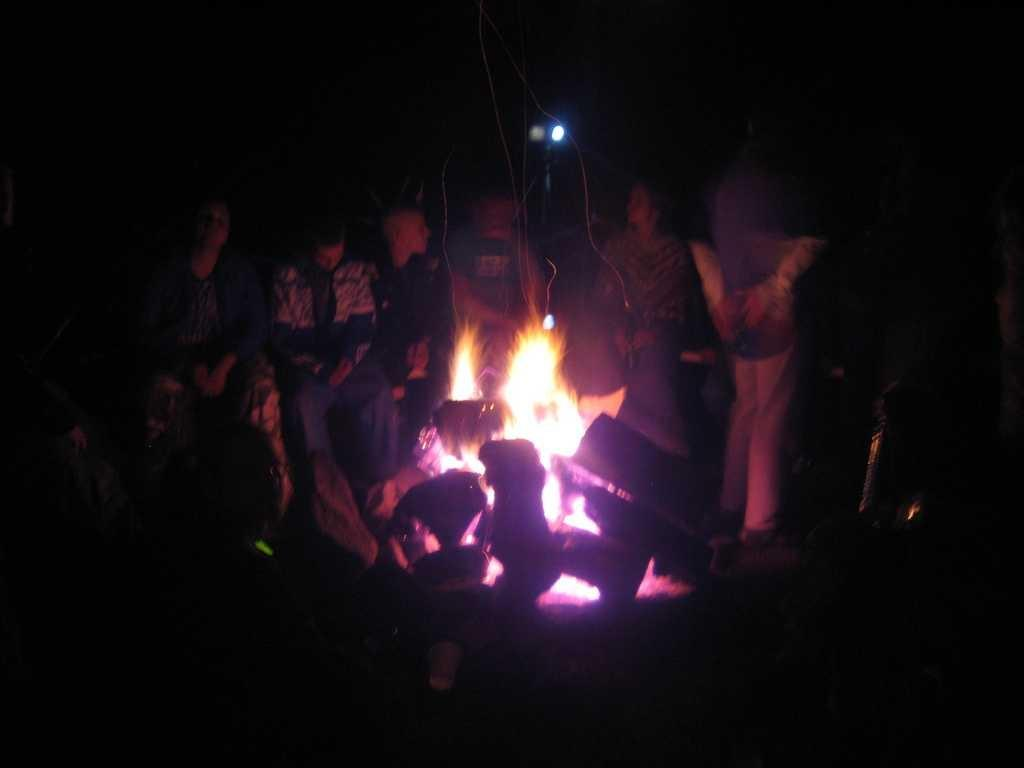fire: (461, 331, 653, 588)
